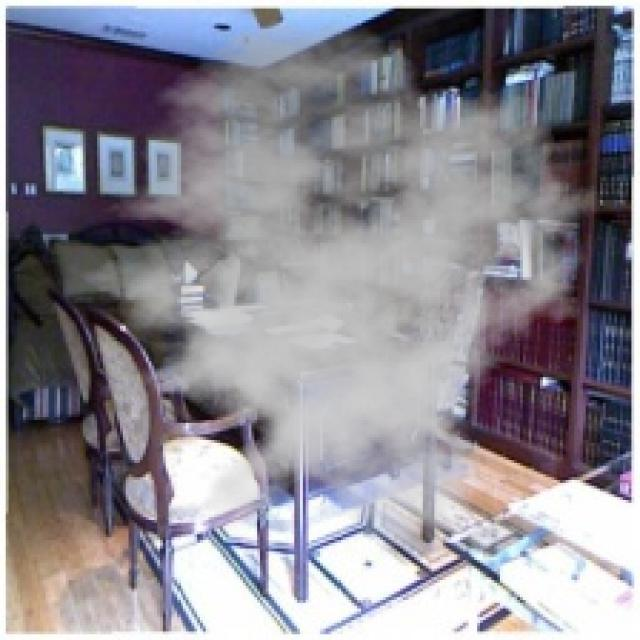Smoke: (57, 19, 614, 552)
